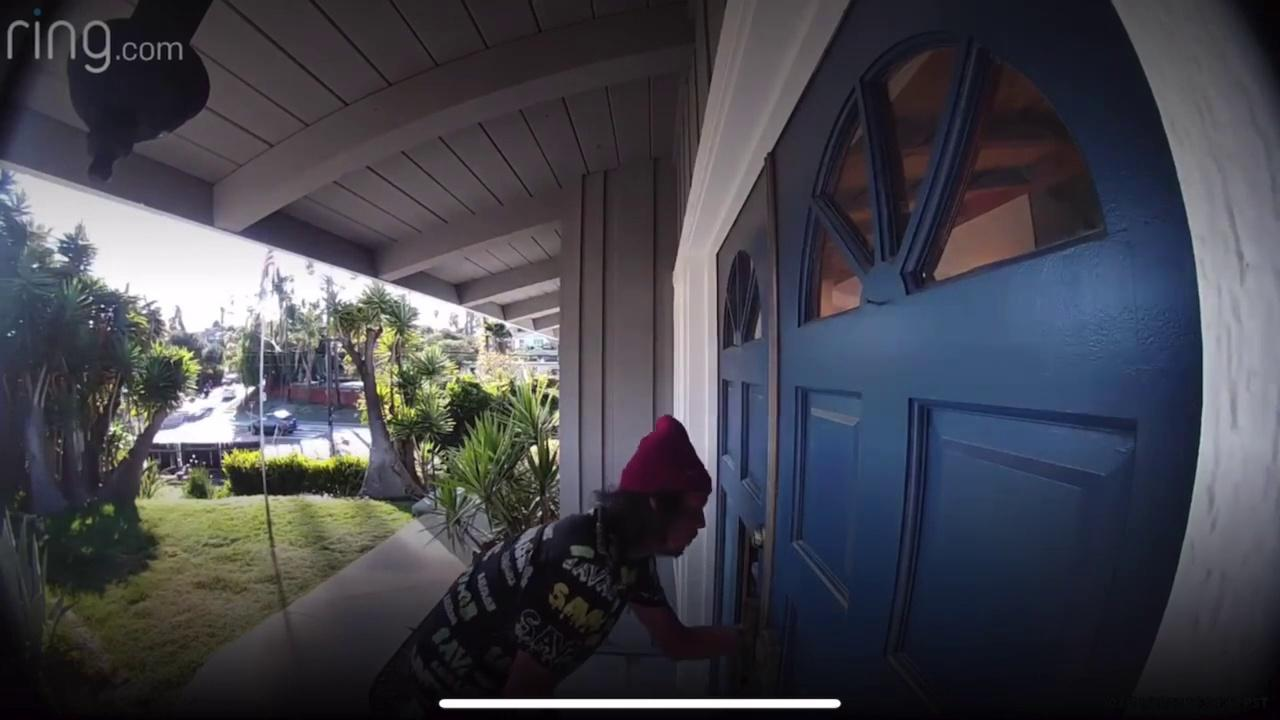suspicion: (358, 396, 784, 720)
